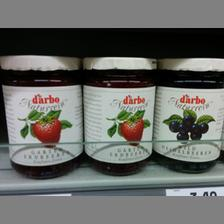Marmelade: (0, 53, 80, 178), (82, 56, 156, 176), (153, 58, 223, 174)
